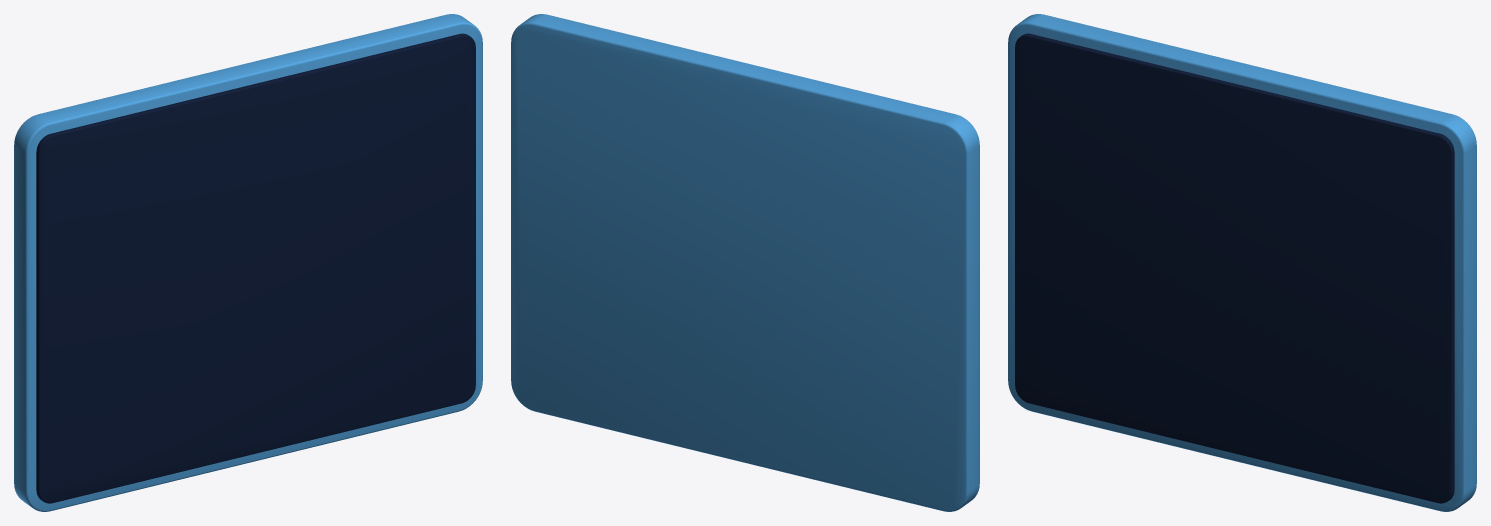
The model's file is panel-grande-oscuro.glb.
The picture shows the model from 3 angles, left to right: view 1: azimuth 30°, elevation 25°; view 2: azimuth 150°, elevation 25°; view 3: azimuth 330°, elevation 25°; orthographic projection.
Parts seen in each view (by area): view 1: placa, borde; view 2: borde; view 3: placa, borde.
Boxes of the visible parts, x1,y1,x2,y2 form: placa: (36,33,475,503); borde: (14,14,482,511); borde: (511,14,979,511); placa: (1015,33,1454,503); borde: (1008,14,1476,511).
Bounding box in the file's own units: 3.2 × 2.6 × 0.192.
